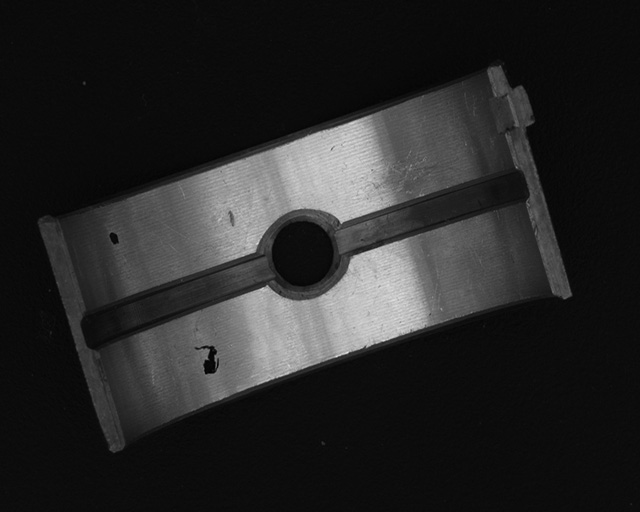blot: (194, 344, 220, 376), (108, 232, 120, 245)
bruise: (227, 210, 236, 228)
gap: (80, 255, 274, 348), (335, 172, 527, 255)
hole: (262, 212, 345, 295)
scratch: (368, 140, 480, 200)
